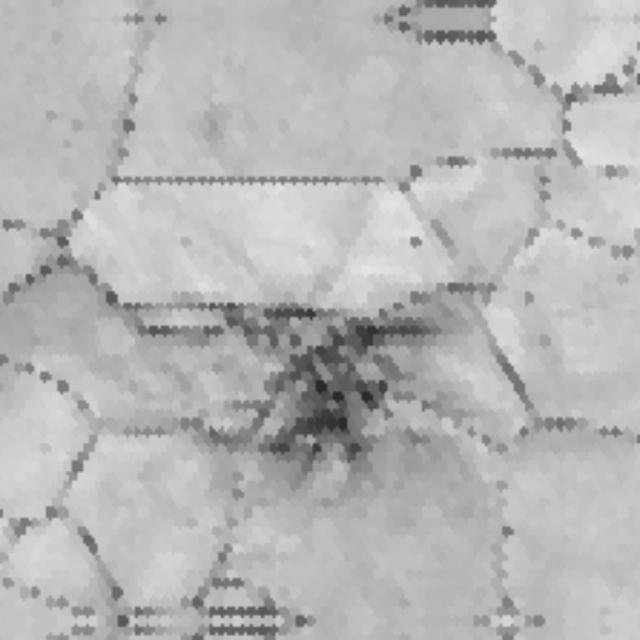good_void: (235, 295, 451, 475), (520, 284, 537, 308), (403, 231, 423, 251), (179, 232, 191, 246)
